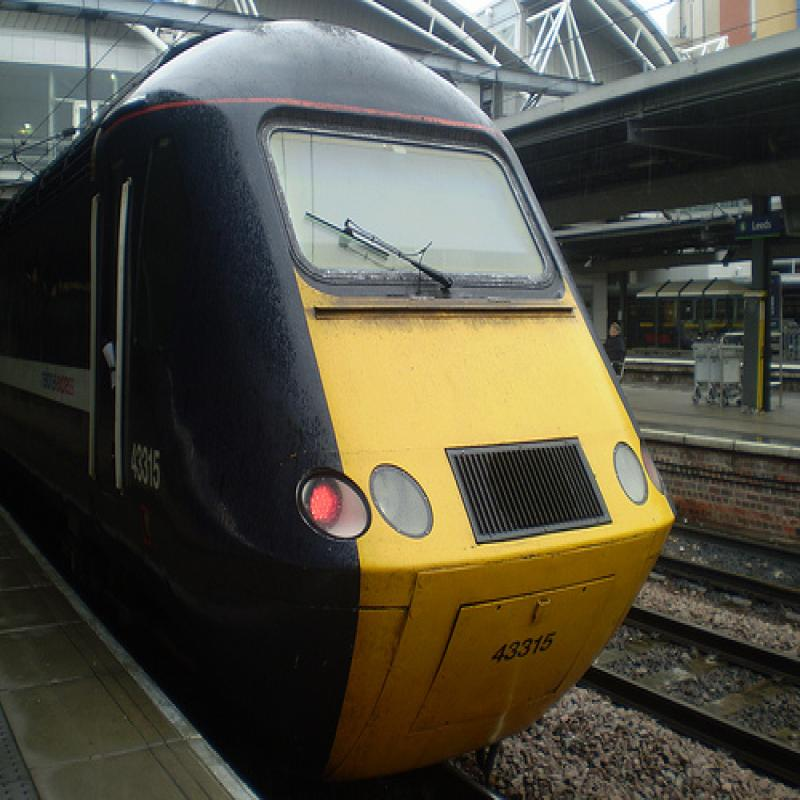train: (2, 26, 677, 800)
